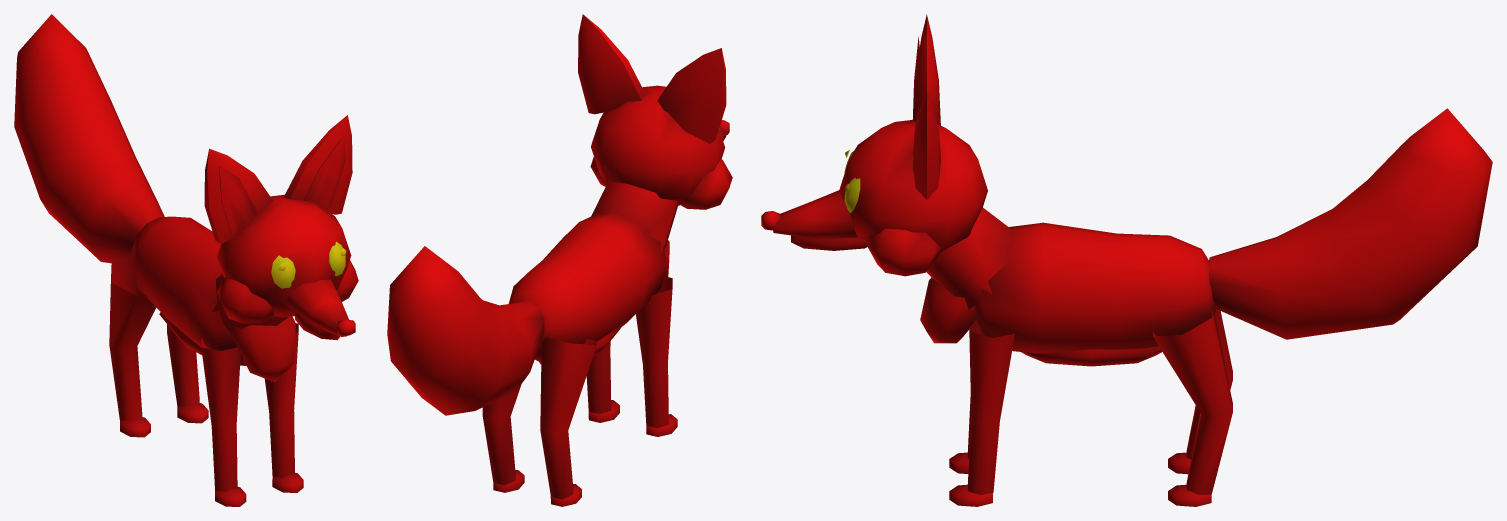
The model's file is FoxAnimal.glb.
3 views of the same model, side by side, from view 1: azimuth 30°, elevation 25°; view 2: azimuth 150°, elevation 25°; view 3: azimuth 270°, elevation 25° (orthographic). The views are drawn at different scales.
Visible parts, largest first — view 1: FoxAnimal; view 2: FoxAnimal; view 3: FoxAnimal.
Boxes of the visible parts, left/top/right/bottom form: FoxAnimal: left=14, top=14, right=358, bottom=506; FoxAnimal: left=387, top=14, right=732, bottom=506; FoxAnimal: left=761, top=14, right=1492, bottom=506.
Bounding box in the file's own units: 0.2346 × 0.5773 × 0.8839.
